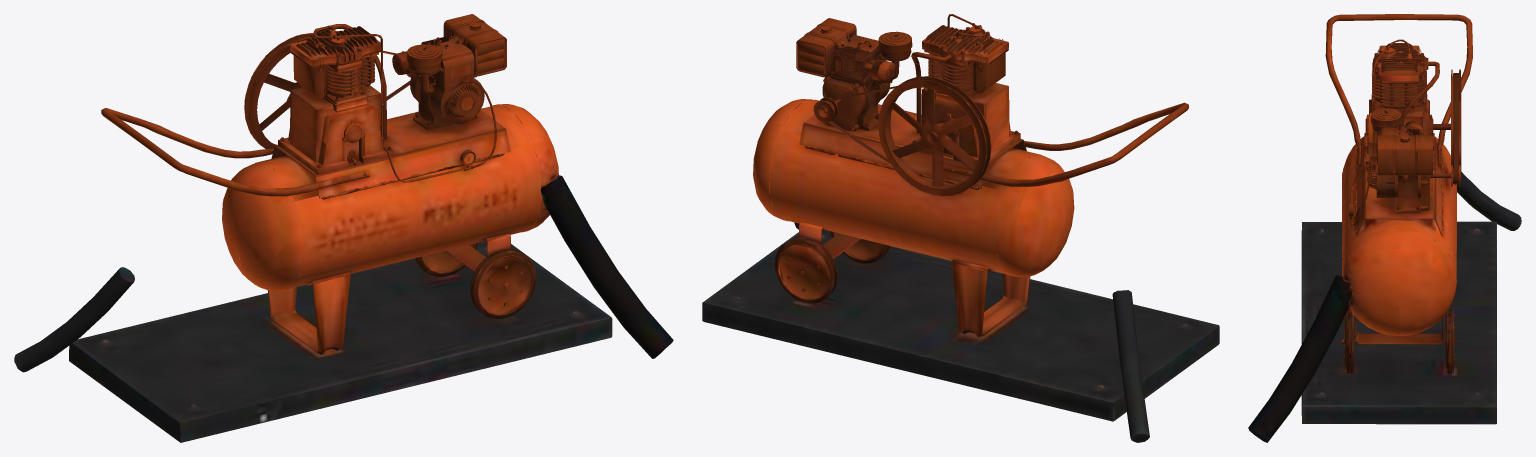
The model's file is pump_unit.glb.
3 views of the same model, side by side, from view 1: azimuth 30°, elevation 25°; view 2: azimuth 150°, elevation 25°; view 3: azimuth 270°, elevation 25° (orthographic). The views are drawn at different scales.
Visible parts, largest first — view 1: pump_unit; view 2: pump_unit; view 3: pump_unit.
Part boxes in pixels (x1=…): pump_unit: x1=14, y1=14, x2=673, y2=442; pump_unit: x1=702, y1=14, x2=1219, y2=442; pump_unit: x1=1248, y1=14, x2=1521, y2=442.
Bounding box in the file's own units: 2.02 × 1.24 × 1.06.
Materials: 1 (1 with a texture image).
